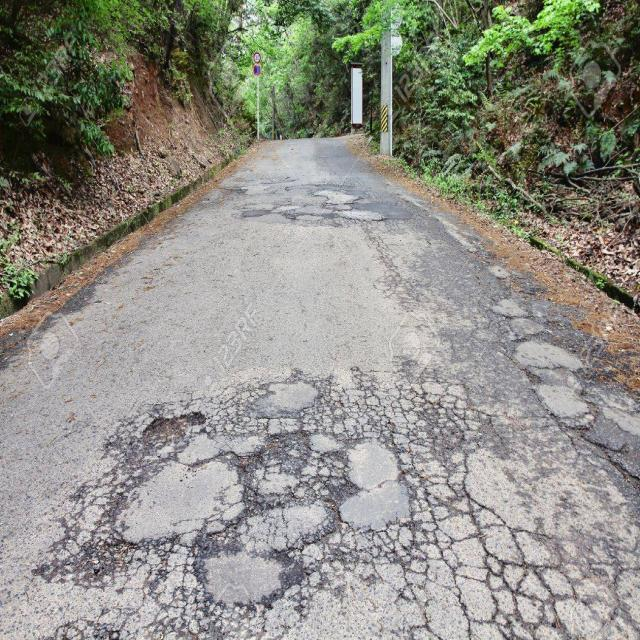Pothole: (124, 404, 207, 456)
